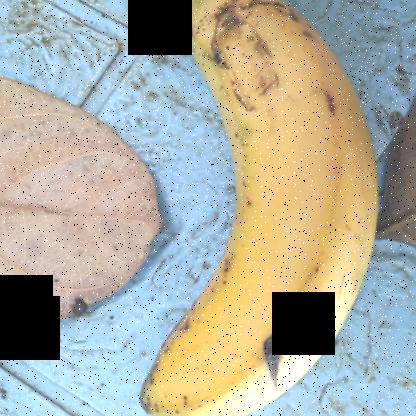ripe: (122, 9, 391, 412)
